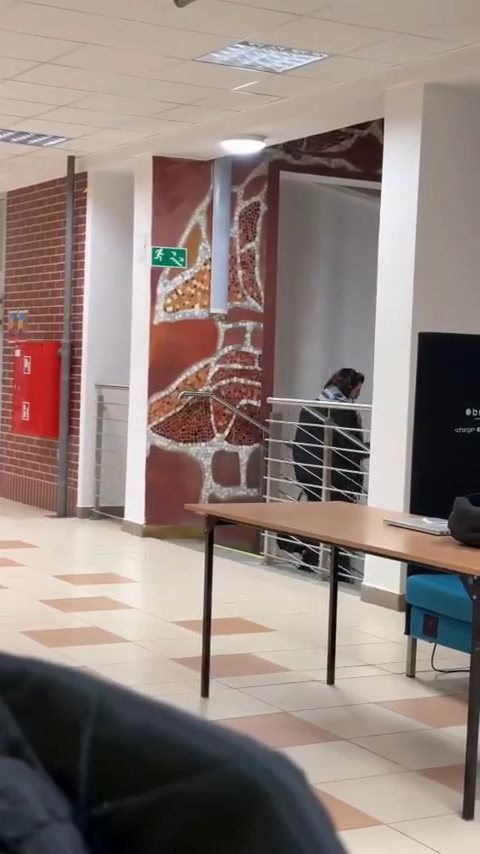no vest: (300, 363, 374, 500)
